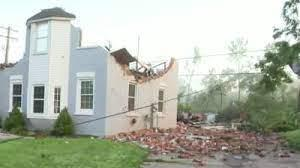destroyed: (2, 1, 186, 149)
